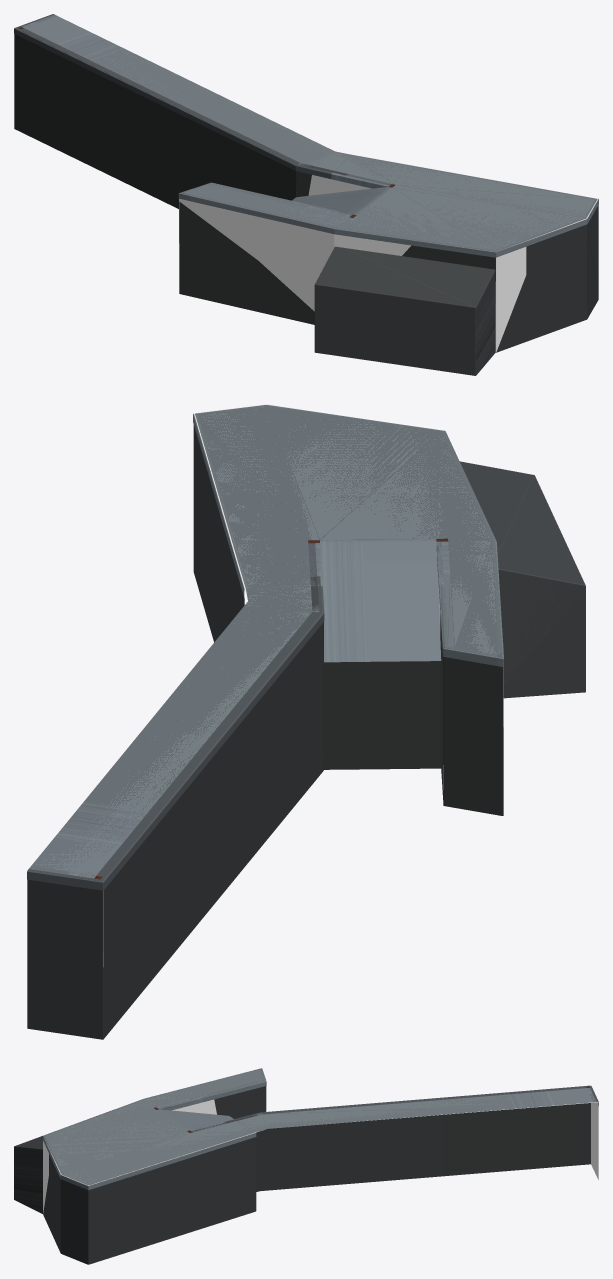
Rendered from objects_un_t05harbor01.gltf.
3 views of the same model, one above another, from view 1: azimuth 30°, elevation 25°; view 2: azimuth 150°, elevation 25°; view 3: azimuth 270°, elevation 25° (orthographic). The views are drawn at different scales.
Parts seen in each view (by area): view 1: um_objects_un_t05harbor01_model_lod0Shape:objects_un_t05harb (×6), um_objects_un_t05harbor01_model_lod2Shape:objects_un_t05harb, um_objects_un_t05harbor01_model_lod1Shape:objects_un_t05harb (×2); view 2: um_objects_un_t05harbor01_model_lod0Shape:objects_un_t05harb (×5), um_objects_un_t05harbor01_model_lod2Shape:objects_un_t05harb (×3), um_objects_un_t05harbor01_model_lod1Shape:objects_un_t05harb (×2); view 3: um_objects_un_t05harbor01_model_lod0Shape:objects_un_t05harb (×6), um_objects_un_t05harbor01_model_lod1Shape:objects_un_t05harb (×3), um_objects_un_t05harbor01_model_lod2Shape:objects_un_t05harb (×2).
Part boxes in pixels (left/top/right/bottom): um_objects_un_t05harbor01_model_lod0Shape:objects_un_t05harb (×6): left=14, top=14, right=598, bottom=375; um_objects_un_t05harbor01_model_lod2Shape:objects_un_t05harb: left=28, top=17, right=583, bottom=249; um_objects_un_t05harbor01_model_lod1Shape:objects_un_t05harb (×2): left=14, top=14, right=598, bottom=252; um_objects_un_t05harbor01_model_lod0Shape:objects_un_t05harb (×5): left=27, top=405, right=585, bottom=1039; um_objects_un_t05harbor01_model_lod2Shape:objects_un_t05harb (×3): left=29, top=406, right=577, bottom=878; um_objects_un_t05harbor01_model_lod1Shape:objects_un_t05harb (×2): left=27, top=405, right=503, bottom=882; um_objects_un_t05harbor01_model_lod0Shape:objects_un_t05harb (×6): left=14, top=1068, right=598, bottom=1264; um_objects_un_t05harbor01_model_lod1Shape:objects_un_t05harb (×3): left=43, top=1068, right=598, bottom=1191; um_objects_un_t05harbor01_model_lod2Shape:objects_un_t05harb (×2): left=46, top=1071, right=598, bottom=1183.
Bounding box in the file's own units: 101 × 31.55 × 212.
6 materials, 5 textured.
